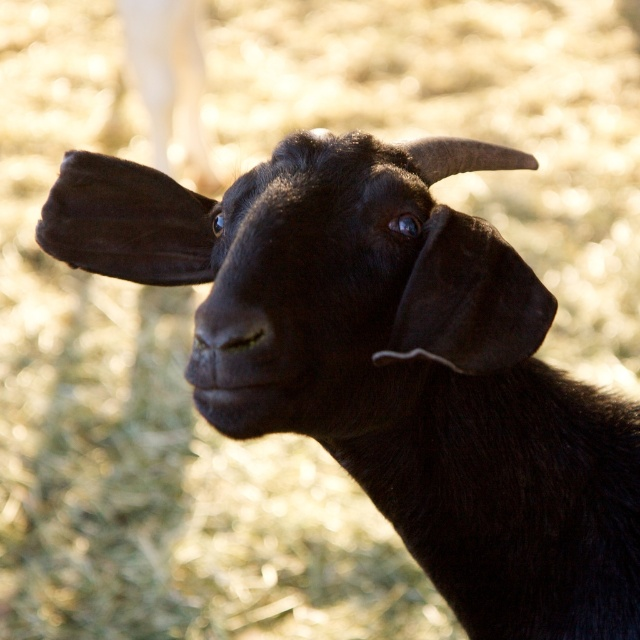Goat: (30, 121, 640, 638)
